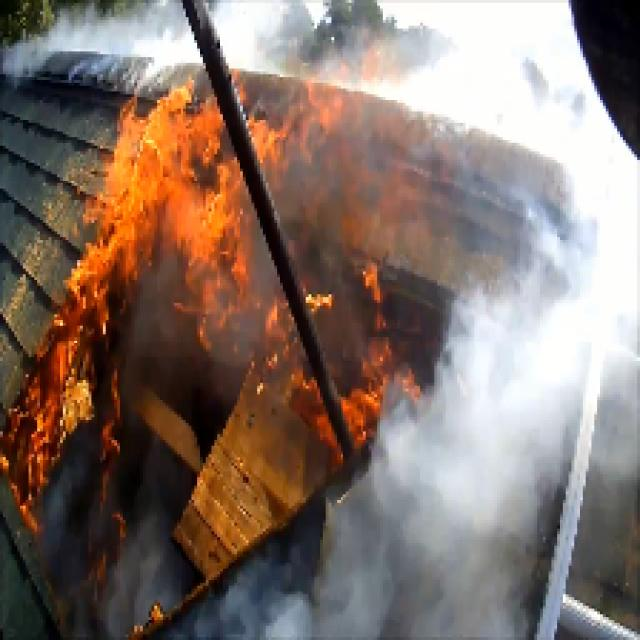fire: (119, 114, 265, 316), (47, 306, 100, 443)
smoke: (425, 281, 635, 608), (434, 1, 586, 161)
